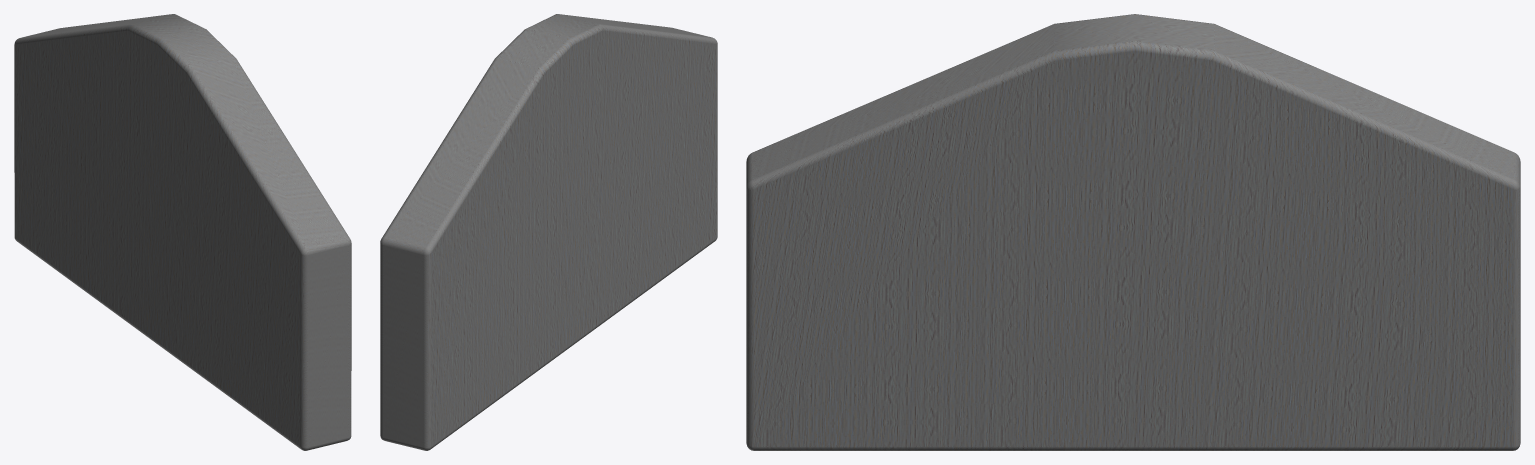
The model's file is sideWallRoofConnect.fbx.
The picture shows the model from 3 angles, left to right: view 1: azimuth 30°, elevation 25°; view 2: azimuth 150°, elevation 25°; view 3: azimuth 270°, elevation 25°; orthographic projection. The views are drawn at different scales.
Visible parts, largest first — view 1: pCube7; view 2: pCube7; view 3: pCube7.
Part boxes in pixels (<box>): pCube7: <box>14,14,351,450</box>; pCube7: <box>380,14,717,450</box>; pCube7: <box>746,14,1520,450</box>.
Size of the model in its own units: 4.69 by 27.25 by 46.72.
